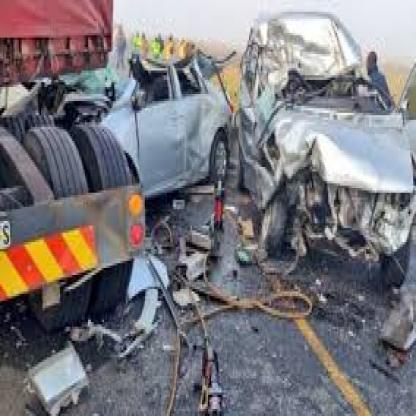accident: (227, 6, 416, 309), (36, 0, 239, 280)
